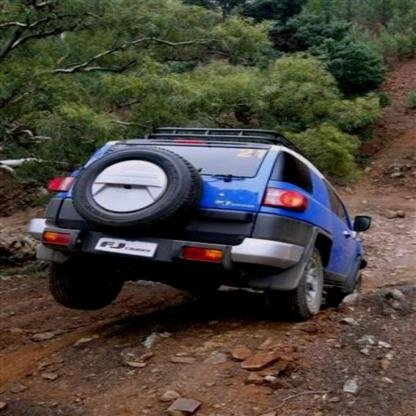Car: (25, 112, 356, 327)
